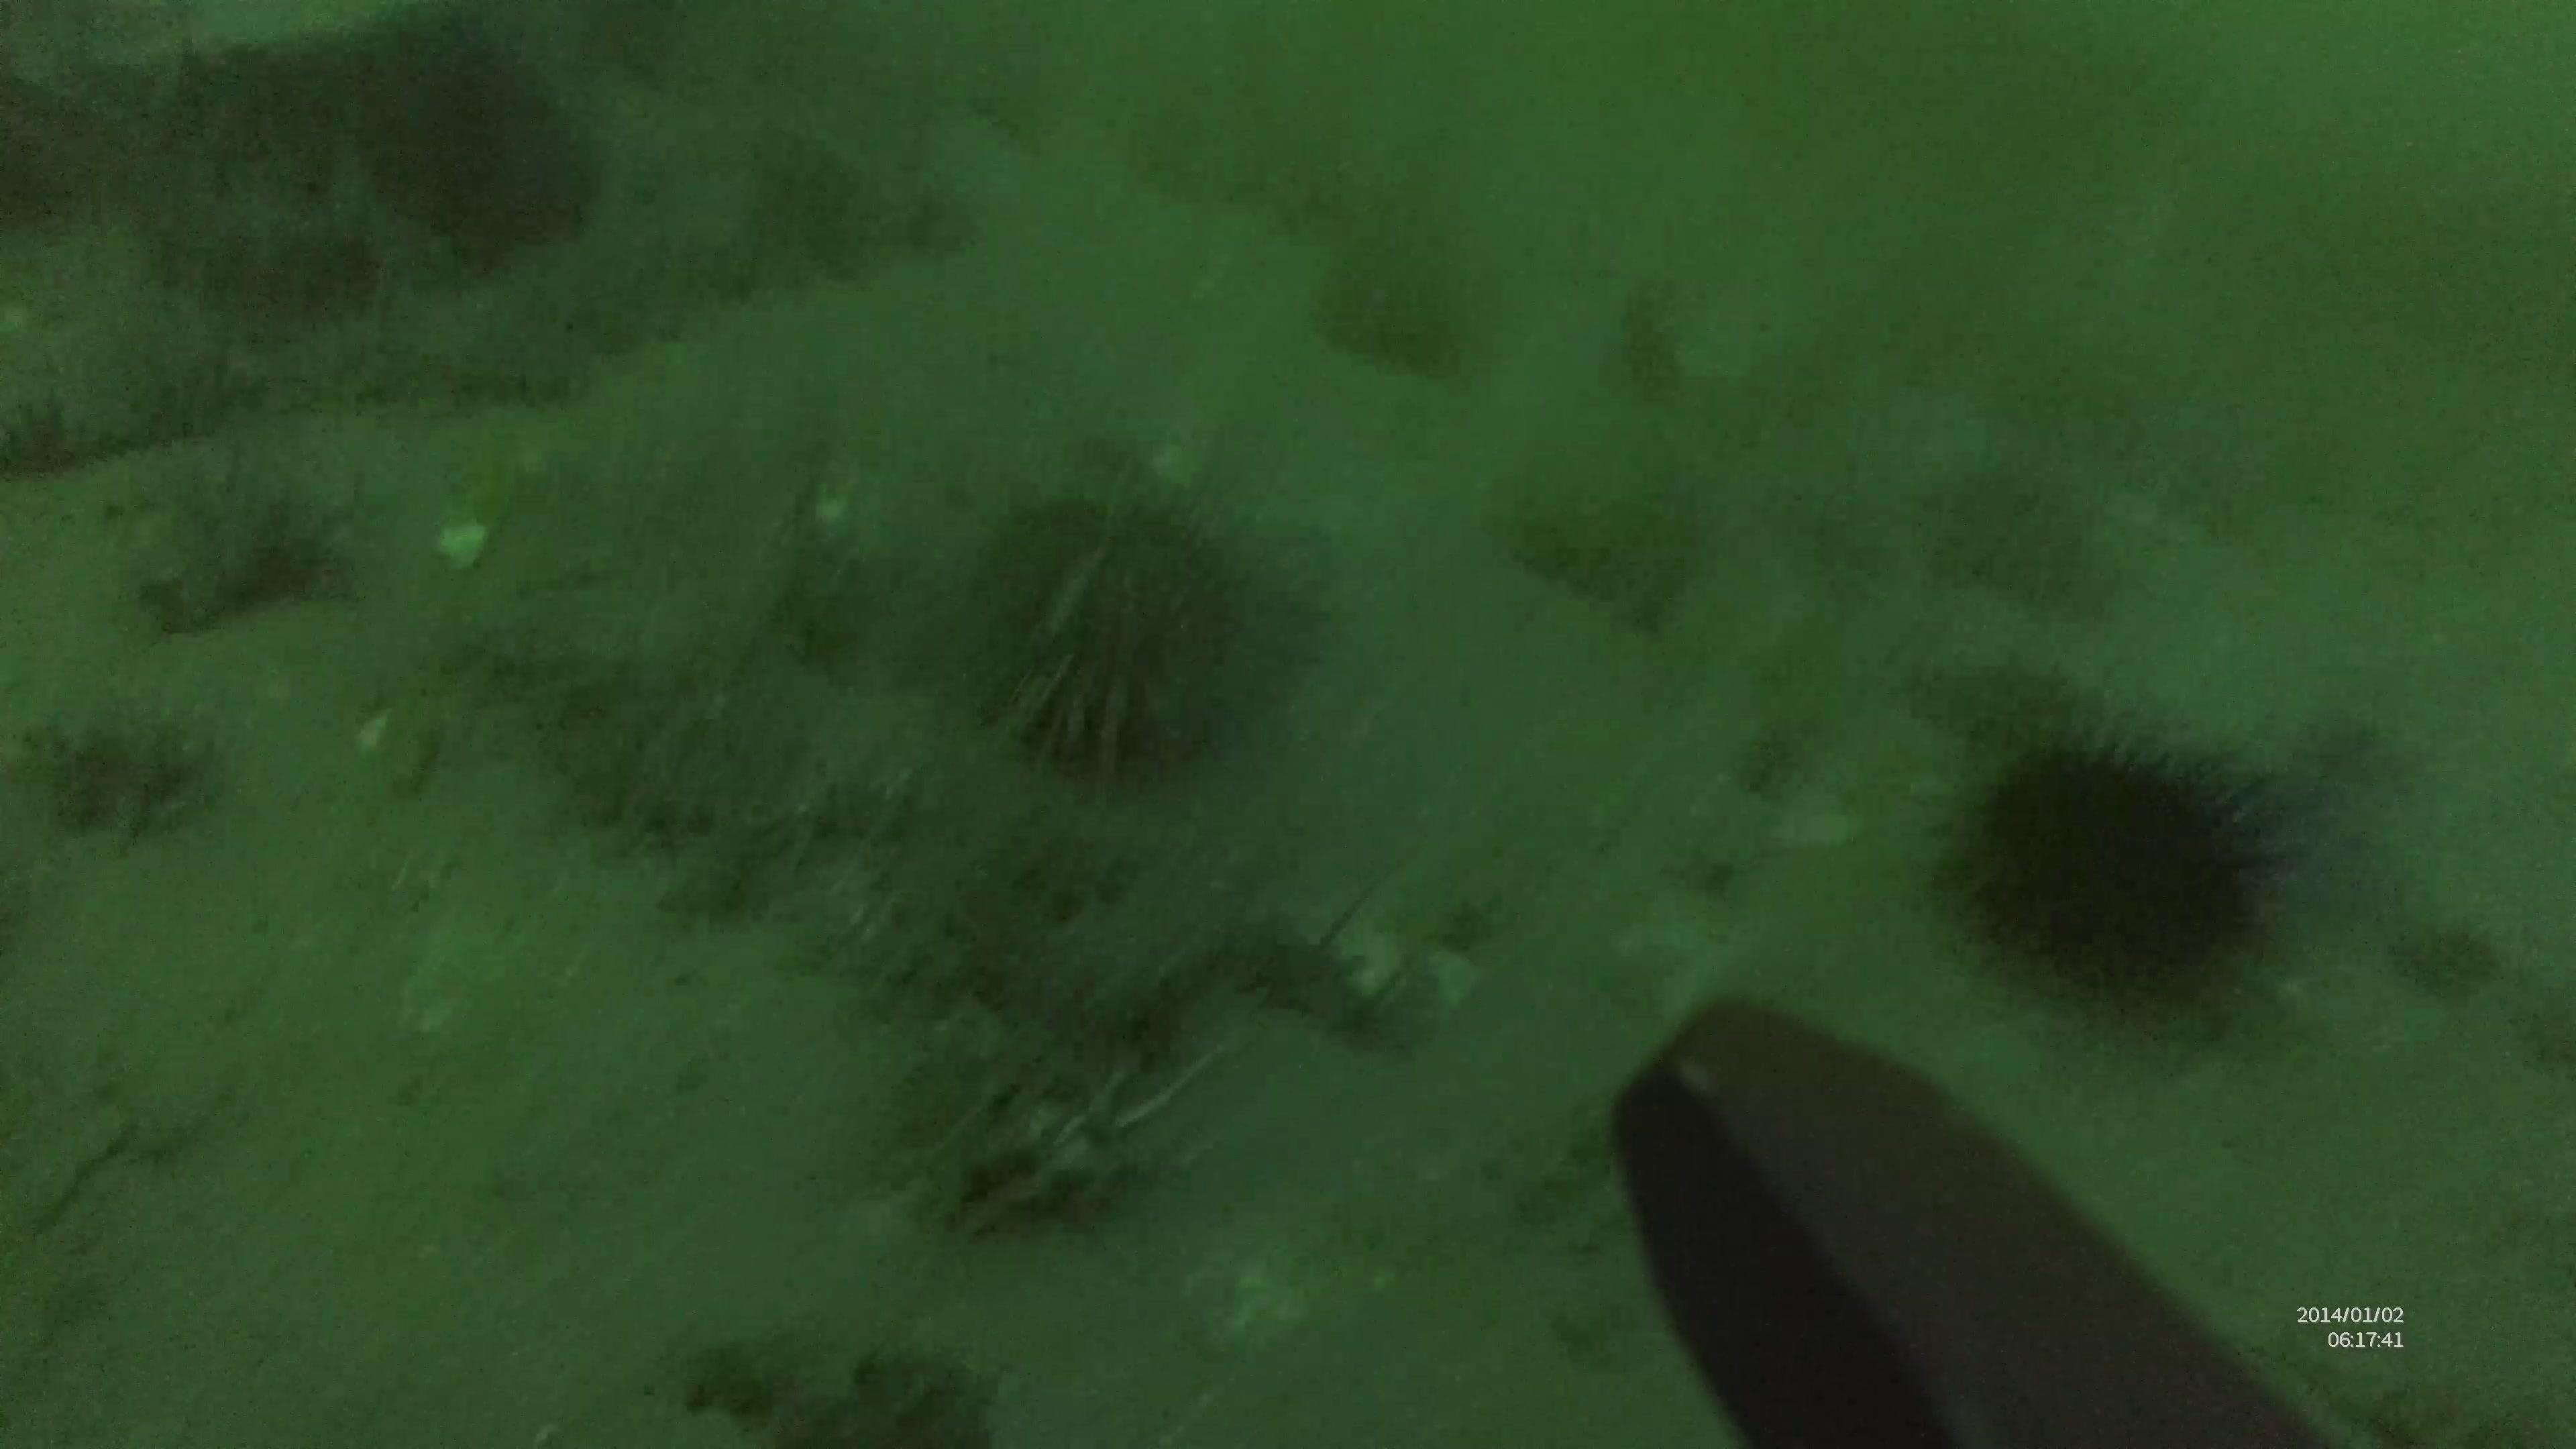echinus: (955, 448, 1316, 780), (1936, 713, 2295, 1028)
